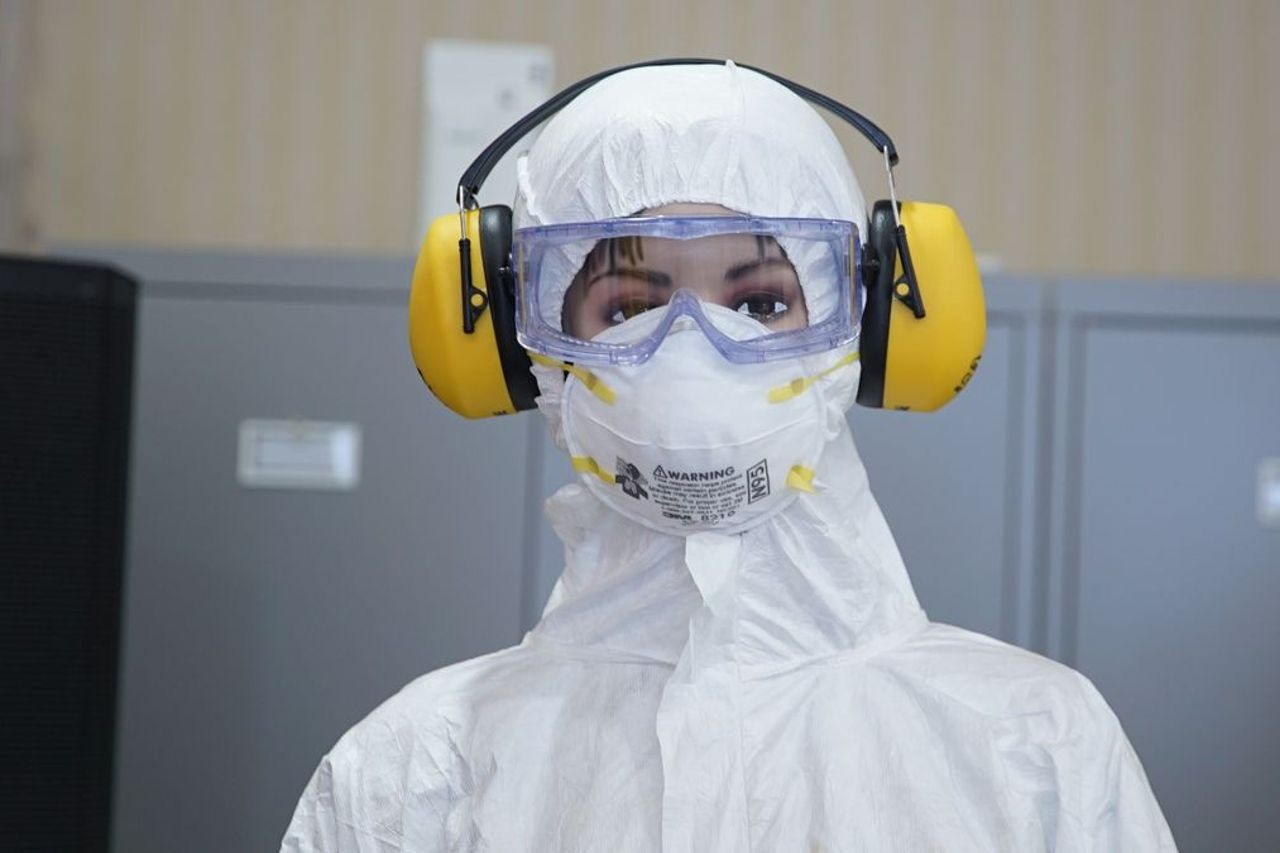Coverall: (275, 65, 1177, 853)
Goggles: (506, 215, 871, 366)
with_mask: (566, 261, 830, 536)
